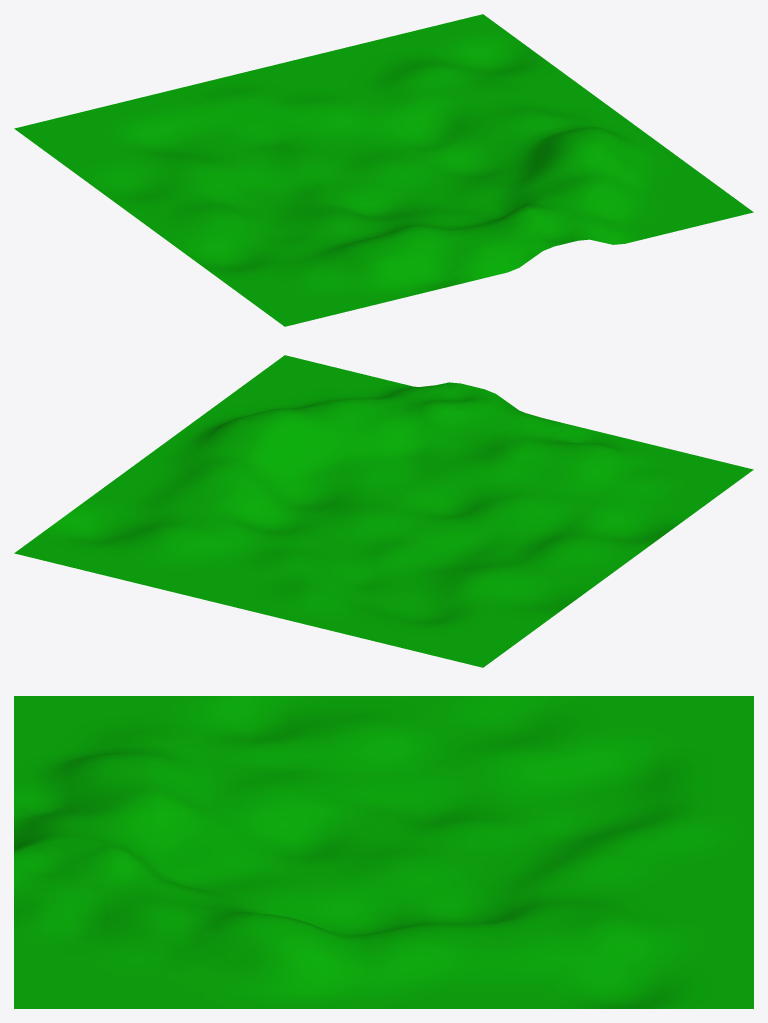
The model's file is ground.fbx.
3 views of the same model, one above another, from view 1: azimuth 30°, elevation 25°; view 2: azimuth 150°, elevation 25°; view 3: azimuth 270°, elevation 25° (orthographic). The views are drawn at different scales.
Parts seen in each view (by area): view 1: pPlane1; view 2: pPlane1; view 3: pPlane1.
Boxes of the visible parts, left/top/right/bottom form: pPlane1: left=14, top=14, right=753, bottom=326; pPlane1: left=14, top=355, right=753, bottom=667; pPlane1: left=14, top=696, right=753, bottom=1008.
Bounding box in the file's own units: 50 × 4.23 × 50.
